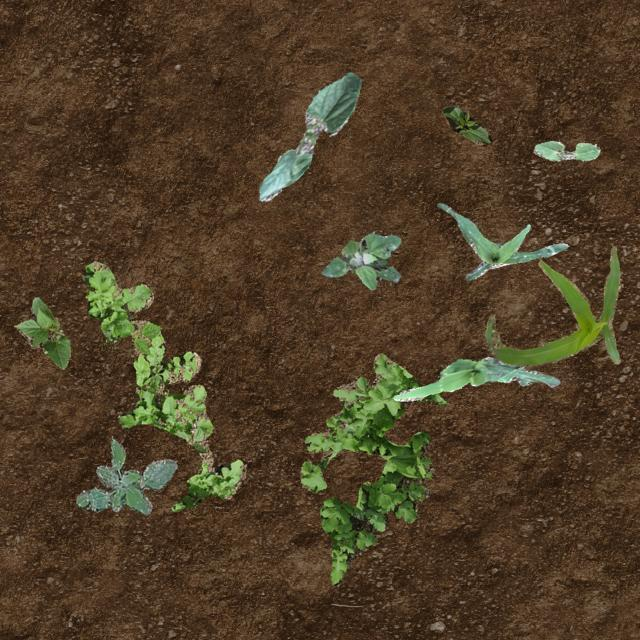crop: (484, 246, 618, 366), (258, 72, 359, 200), (437, 202, 568, 278), (392, 356, 558, 400), (14, 296, 70, 368), (440, 104, 490, 144), (532, 140, 598, 160)
weed: (82, 260, 245, 510), (298, 352, 444, 584), (76, 438, 176, 514), (320, 230, 400, 288)
